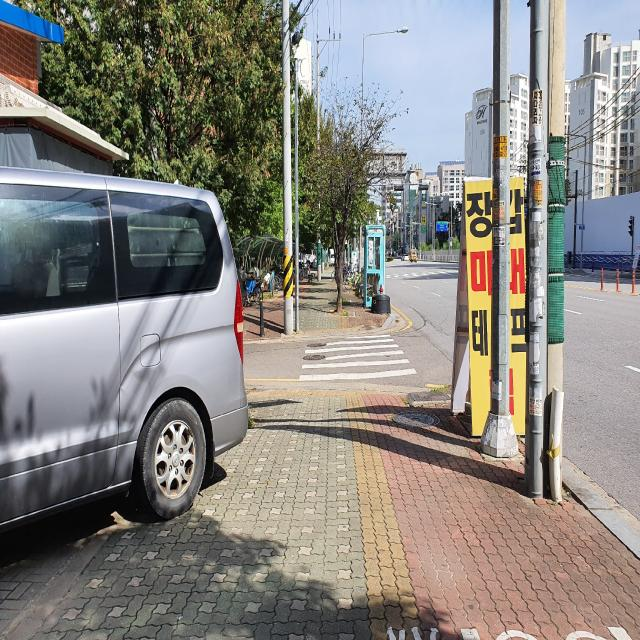횡단보도: (298, 333, 418, 383)
